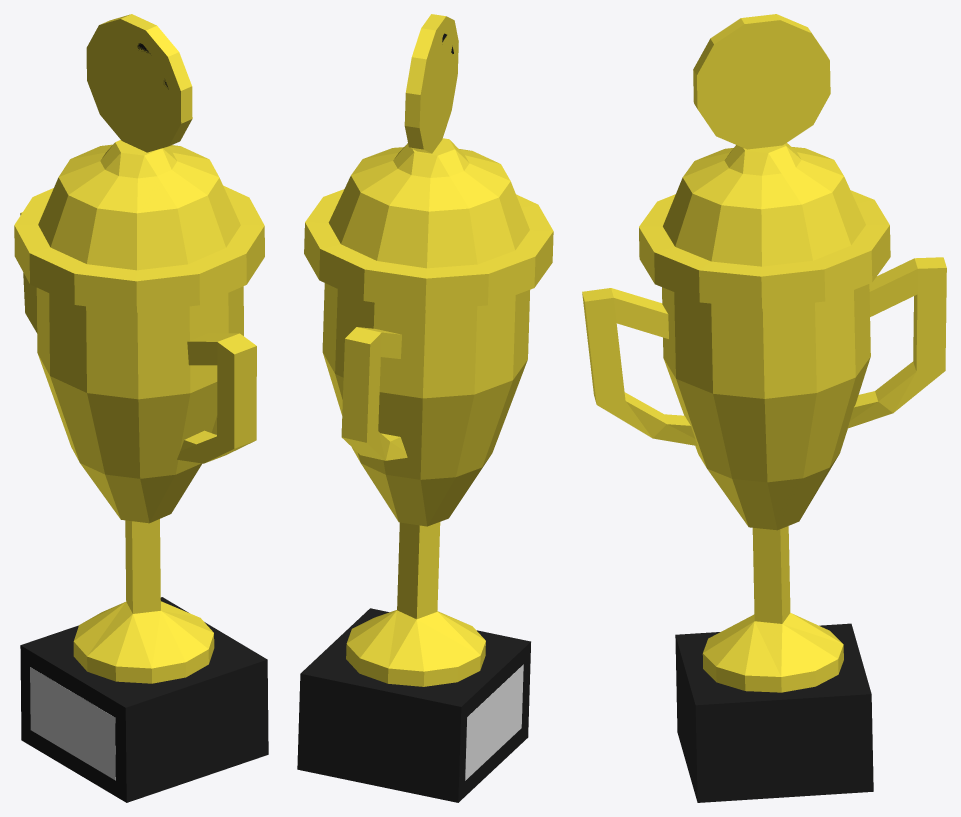
The picture shows the model from 3 angles, left to right: view 1: azimuth 30°, elevation 25°; view 2: azimuth 150°, elevation 25°; view 3: azimuth 270°, elevation 25°; orthographic projection.
Parts seen in each view (by area): view 1: group2003853270, group1850572282, group1526004427, group118815495, group850351173, group1306944167, group1804777712; view 2: group2003853270, group1850572282, group1526004427, group118815495, group1804777712, group1306944167; view 3: group2003853270, group1850572282, group118815495, group1526004427, group1804777712, group850351173.
Part boxes in pixels (x1,y1,x2,y2): group2003853270: (14, 140, 264, 523); group1850572282: (20, 597, 268, 802); group1526004427: (73, 519, 214, 683); group118815495: (86, 14, 192, 152); group850351173: (177, 333, 256, 463); group1306944167: (30, 667, 115, 780); group1804777712: (20, 212, 37, 333); group2003853270: (304, 138, 553, 526); group1850572282: (297, 608, 530, 802); group1526004427: (346, 522, 485, 686); group118815495: (404, 14, 458, 153); group1804777712: (341, 327, 407, 460); group1306944167: (465, 664, 523, 780); group2003853270: (639, 143, 890, 530); group1850572282: (675, 623, 873, 802); group118815495: (693, 14, 830, 149); group1526004427: (702, 526, 843, 692); group1804777712: (847, 257, 946, 428); group850351173: (582, 288, 697, 445).
Bounding box in the file's own units: 0.1421 × 0.4606 × 0.2058.
